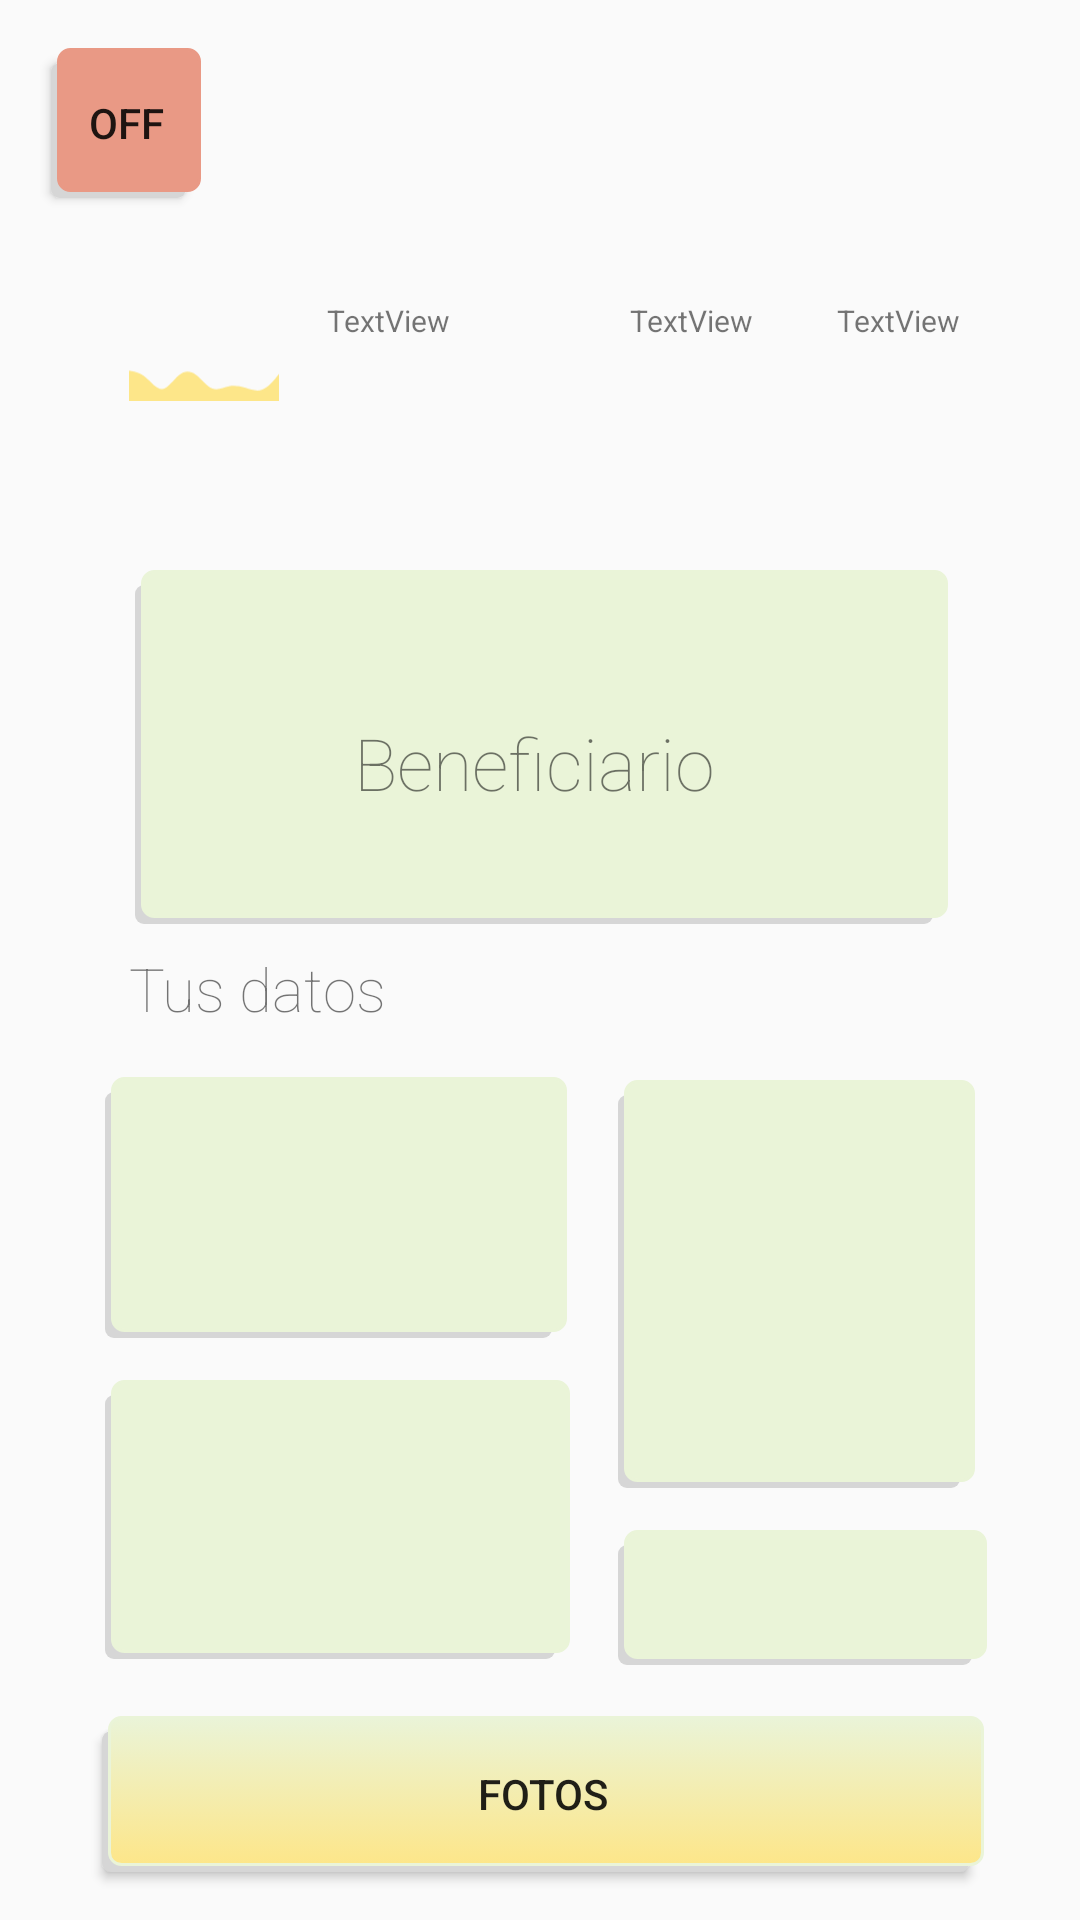

Icons on this 1080 × 1920 Android screen, each with the point to tap as (x=x, y=y):
wave: (x=204, y=385)
